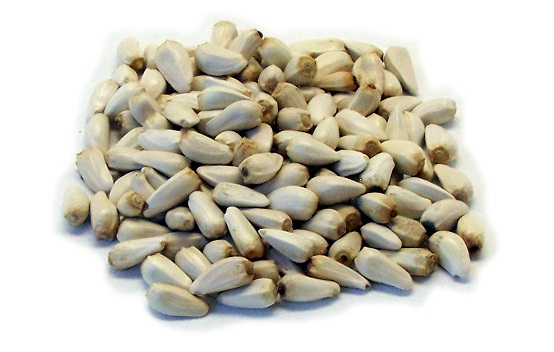seed: (47, 14, 496, 323)
